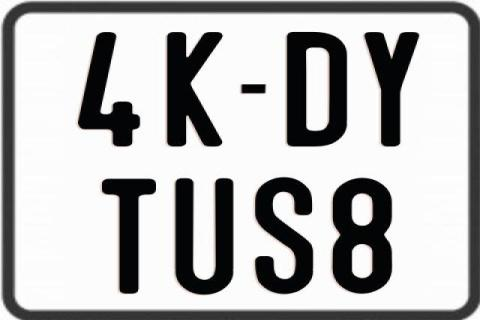0: (329, 176, 395, 292), (77, 29, 140, 145)
D: (284, 31, 348, 147)
K: (165, 30, 226, 148)
S: (252, 177, 311, 296)
T: (101, 178, 155, 294)
U: (174, 178, 236, 294)
Y: (363, 32, 421, 150)
